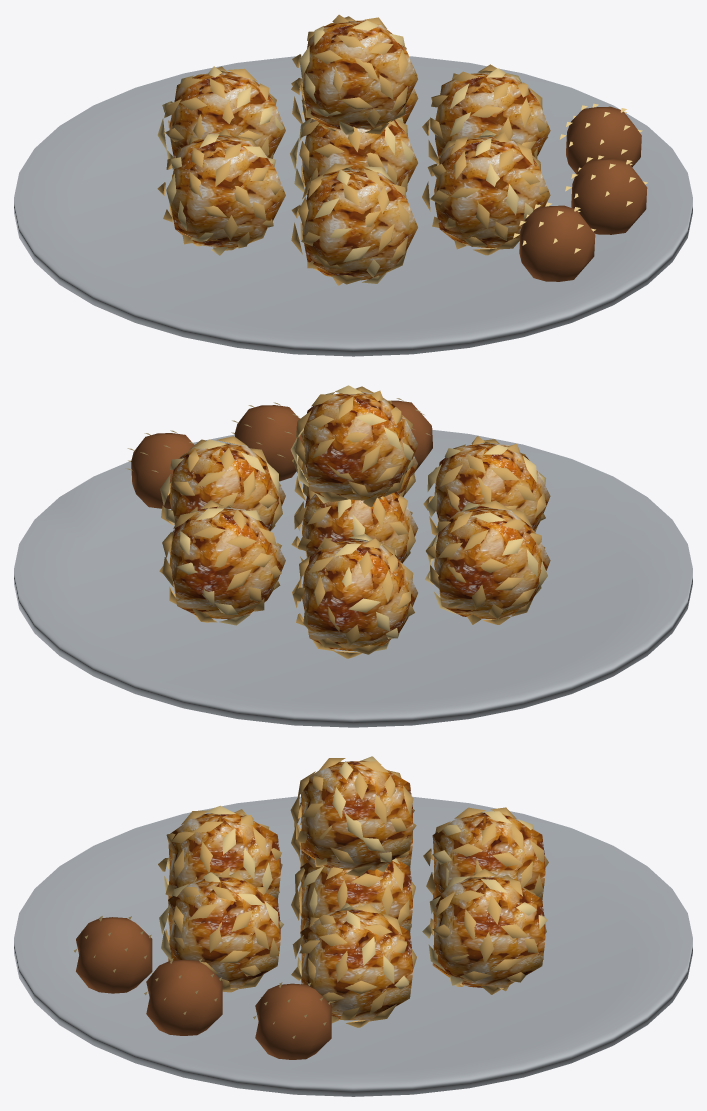
File: prop_moa_plate.glb
3 views of the same model, one above another, from view 1: azimuth 30°, elevation 25°; view 2: azimuth 150°, elevation 25°; view 3: azimuth 270°, elevation 25° (orthographic).
Visible parts, largest first — view 1: prop_moa_plate; view 2: prop_moa_plate; view 3: prop_moa_plate.
Part boxes in pixels (left/top/right/bottom): prop_moa_plate: left=14, top=14, right=692, bottom=356; prop_moa_plate: left=14, top=385, right=692, bottom=727; prop_moa_plate: left=14, top=756, right=692, bottom=1096.
Size of the model in its own units: 0.36 by 0.1252 by 0.36.
Materials: 5 (1 with a texture image).
